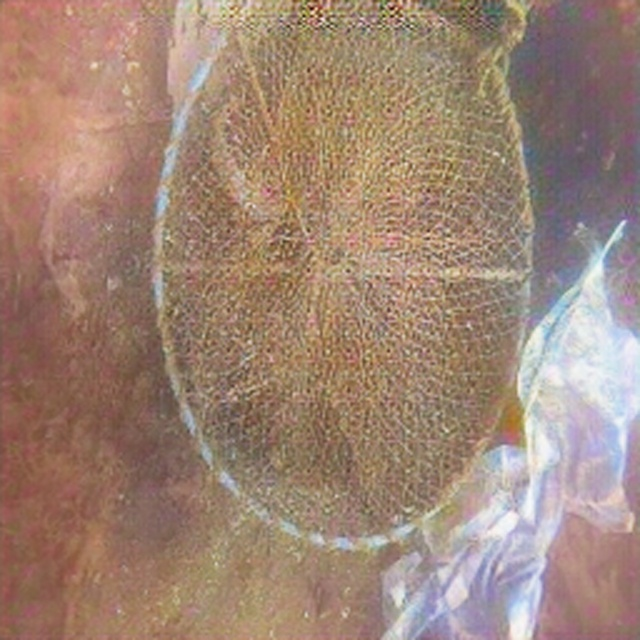mine: (153, 0, 533, 548)
